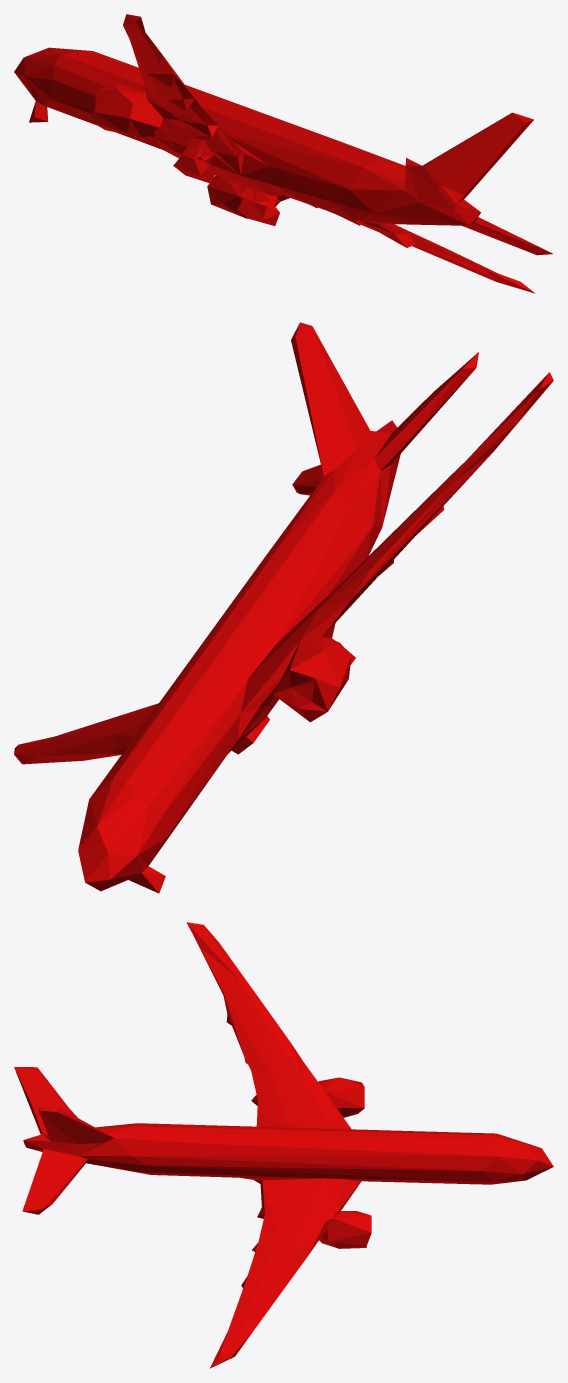
Rendered from mesh_rotated.obj.
3 views of the same model, one above another, from view 1: azimuth 30°, elevation 25°; view 2: azimuth 150°, elevation 25°; view 3: azimuth 270°, elevation 25° (orthographic). The views are drawn at different scales.
Size of the model in its own units: 1933 by 1729 by 2871.
